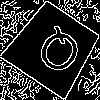Q: (28, 23, 88, 85)
